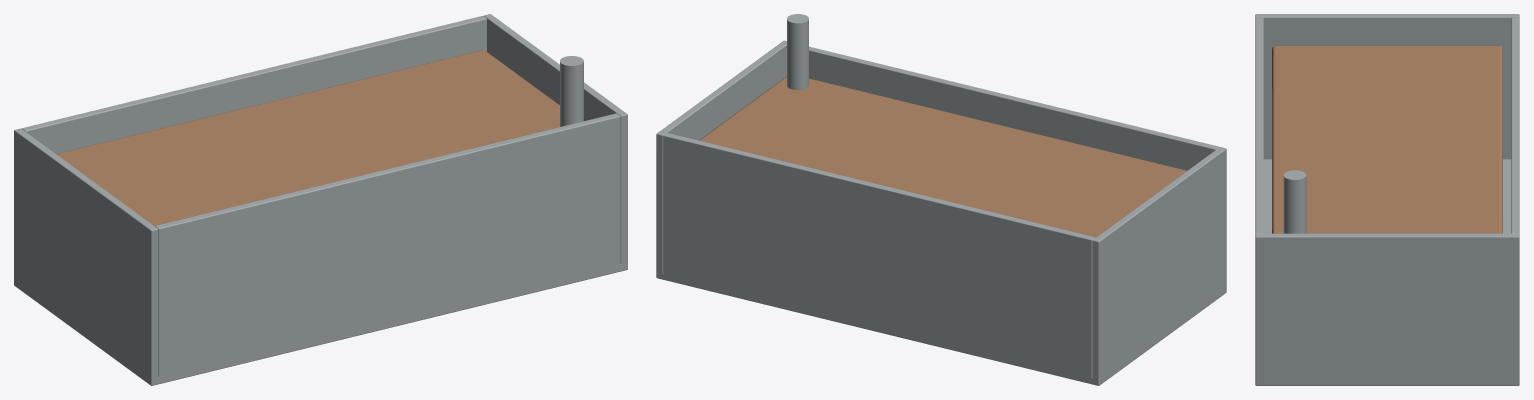
The model's file is survival-greenhouse-and-irrigation-wicking-grow-bed-50108c24__21313.glb.
The picture shows the model from 3 angles, left to right: view 1: azimuth 30°, elevation 25°; view 2: azimuth 150°, elevation 25°; view 3: azimuth 270°, elevation 25°; orthographic projection. The views are drawn at different scales.
Visible parts, largest first — view 1: wicking-grow-bed; view 2: wicking-grow-bed; view 3: wicking-grow-bed.
Part boxes in pixels (x1,y1,x2,y2): wicking-grow-bed: (14,14,627,385); wicking-grow-bed: (656,14,1226,385); wicking-grow-bed: (1255,14,1519,385).
Bounding box in the file's own units: 1.6 × 0.6501 × 0.8001.
